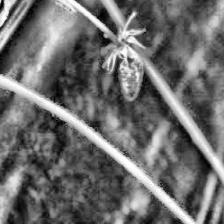Gray Mold: (102, 12, 148, 102)
